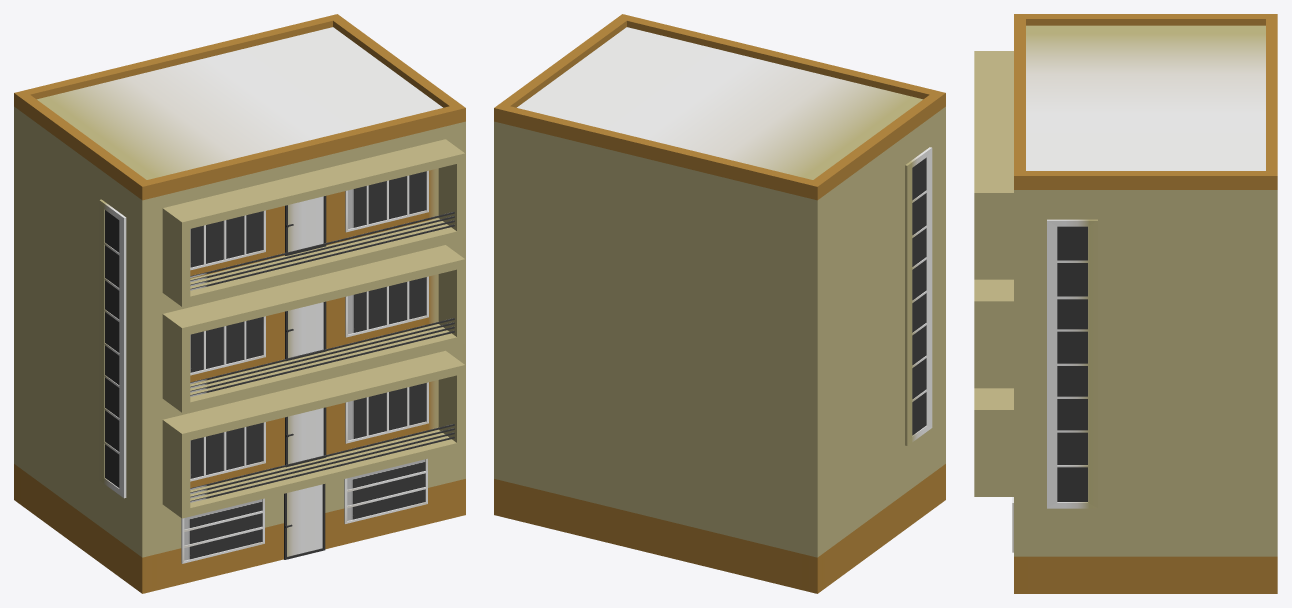
Rendered from Building_Residential_color01.fbx.
3 renders of one model, left to right at view 1: azimuth 30°, elevation 25°; view 2: azimuth 150°, elevation 25°; view 3: azimuth 270°, elevation 25°, orthographic. The views are drawn at different scales.
Parts seen in each view (by area): view 1: Building_Residential_color01; view 2: Building_Residential_color01; view 3: Building_Residential_color01.
Boxes of the visible parts, left/top/right/bottom form: Building_Residential_color01: left=14, top=14, right=465, bottom=593; Building_Residential_color01: left=494, top=14, right=945, bottom=593; Building_Residential_color01: left=974, top=14, right=1277, bottom=593.
Size of the model in its own units: 1623 by 1924 by 1266.
